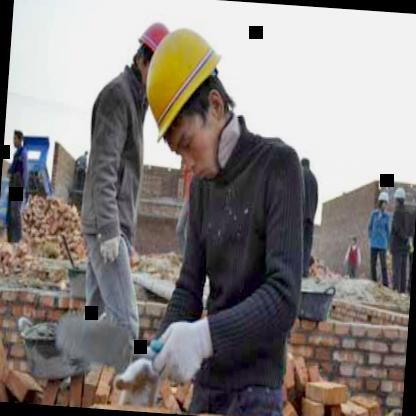head: (10, 126, 26, 151)
helmet: (130, 12, 250, 185), (130, 18, 173, 76), (392, 184, 408, 214), (376, 186, 390, 210)
